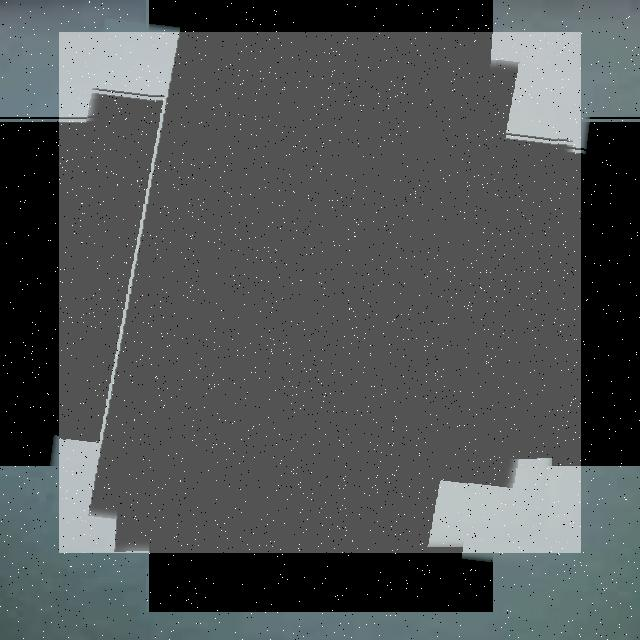lima puluh ribu rupiah: (59, 32, 581, 553)
